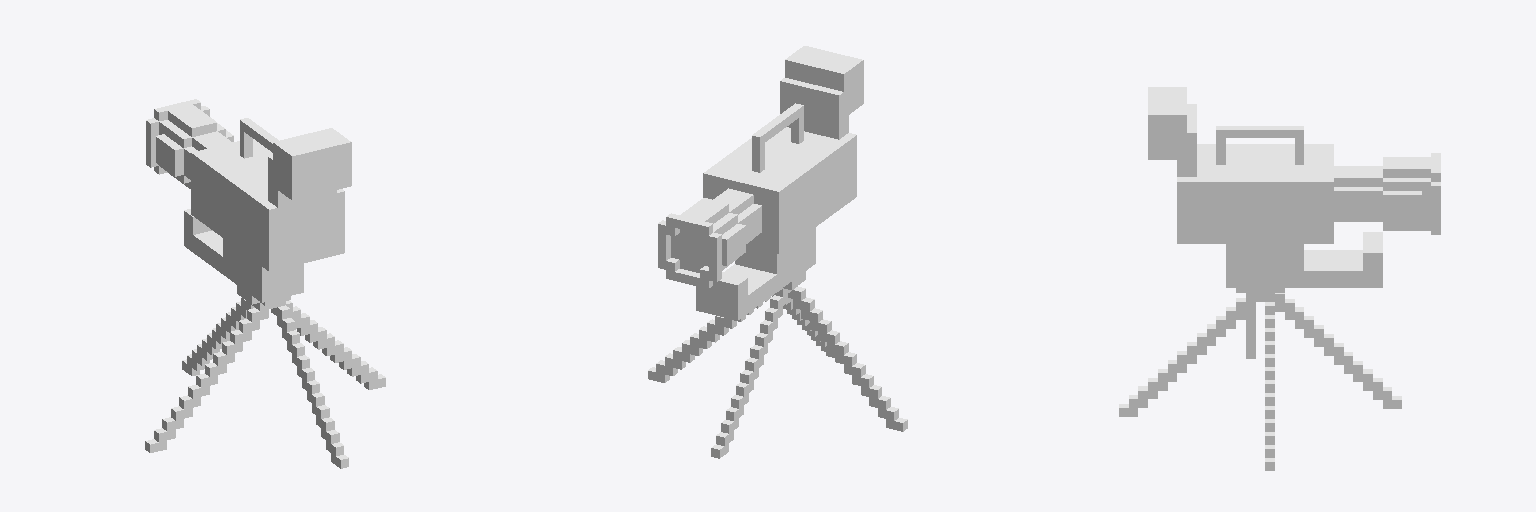
Rendered from Camera.obj.
3 renders of one model, left to right at view 1: azimuth 30°, elevation 25°; view 2: azimuth 150°, elevation 25°; view 3: azimuth 270°, elevation 25°, orthographic.
Size of the model in its own units: 29 by 35 by 33.